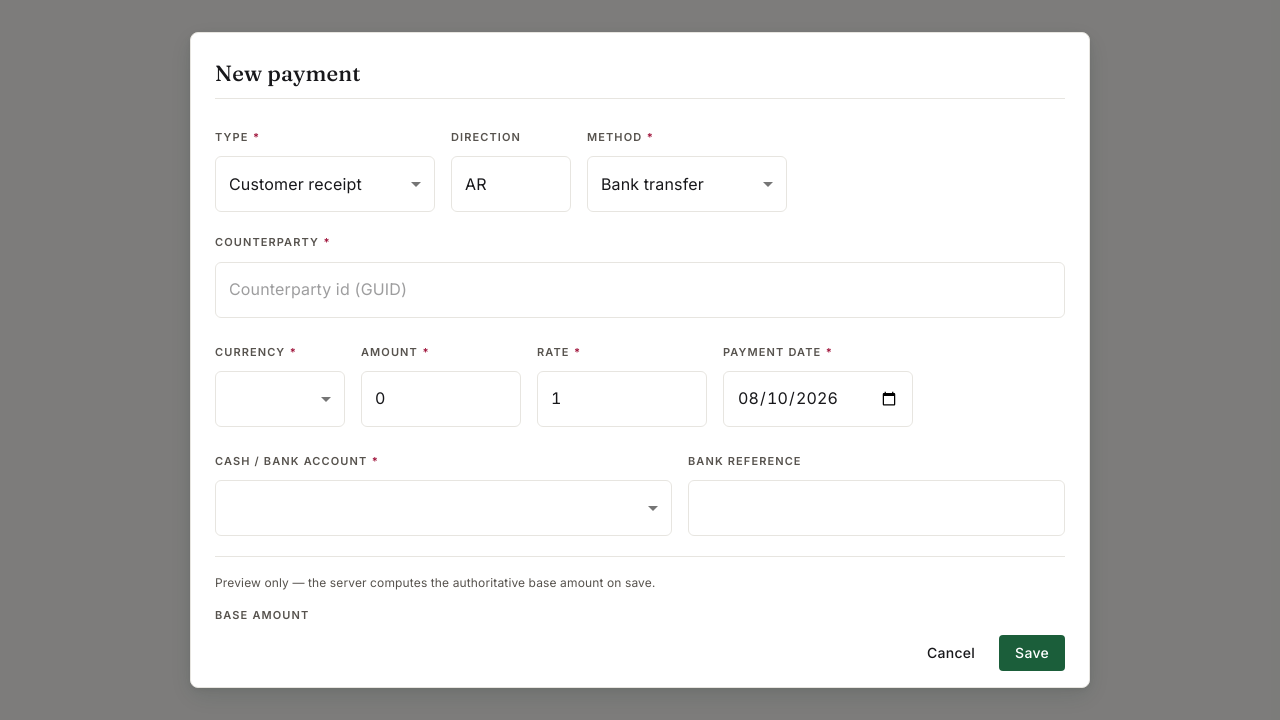
Scenario: PaymentFormDialog (SDD-UI-FIN-002 §2.3, §2.5) › PaymentMutations_Create_InvalidatesListAndShowsSuccess
Step 1. Type "22222222-2222-2222-2222-222222222222" into the field with placeholder "Counterparty id (GUID)" → [640, 290], box [215,262,1065,318]
Step 2. Click the dropdown below "Currency" → [280, 399], box [215,371,345,427]
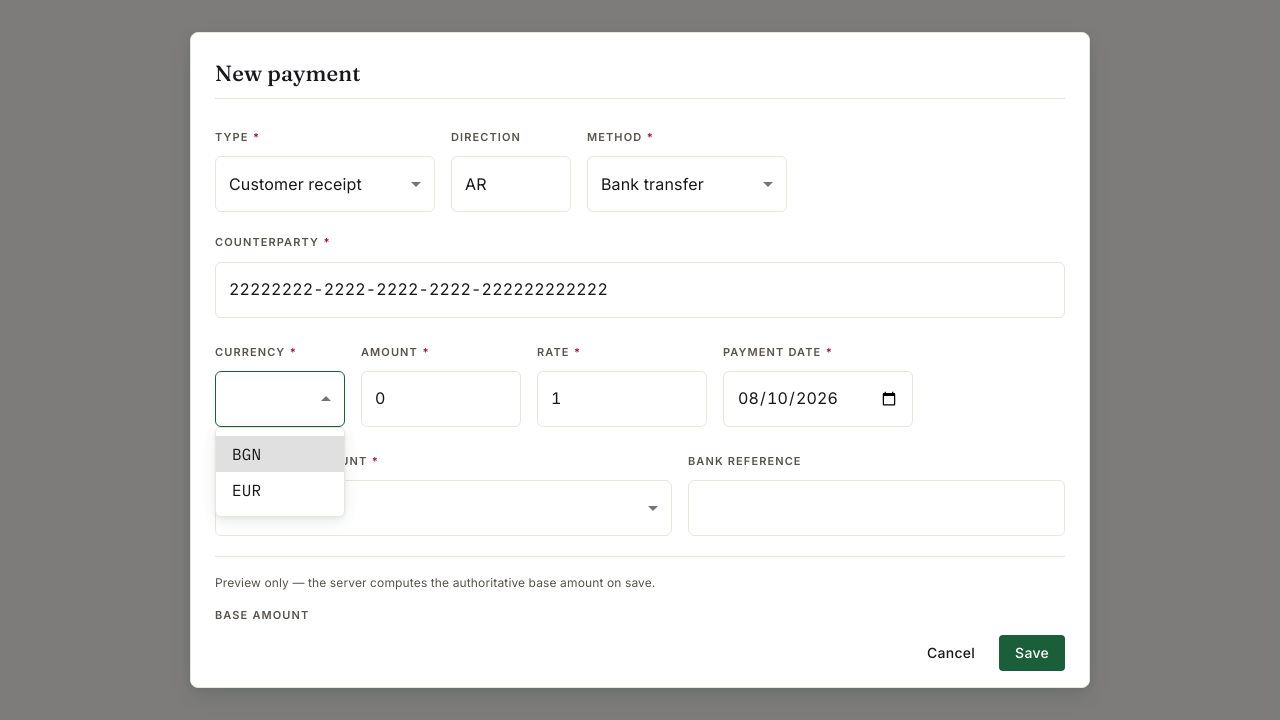
Step 3. Click the option "BGN" → [280, 454], box [216,436,344,472]
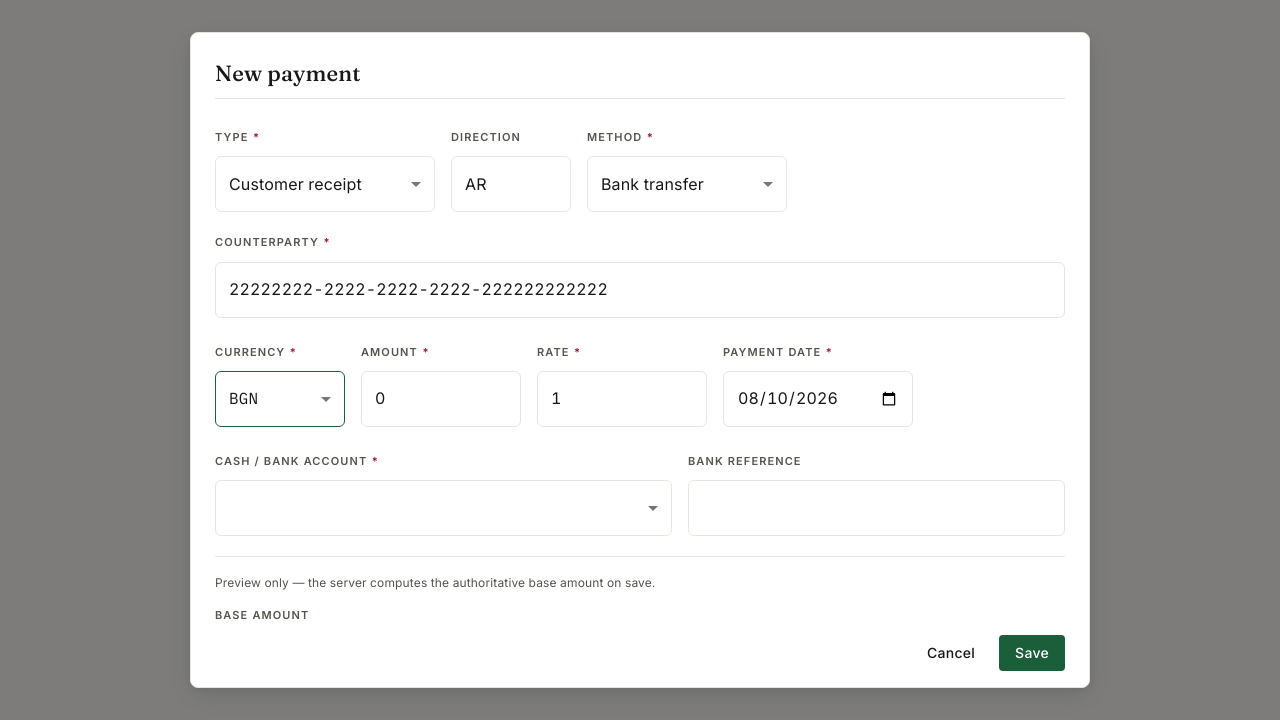
Step 4. Click the 4th dropdown → [444, 508], box [215,480,672,536]
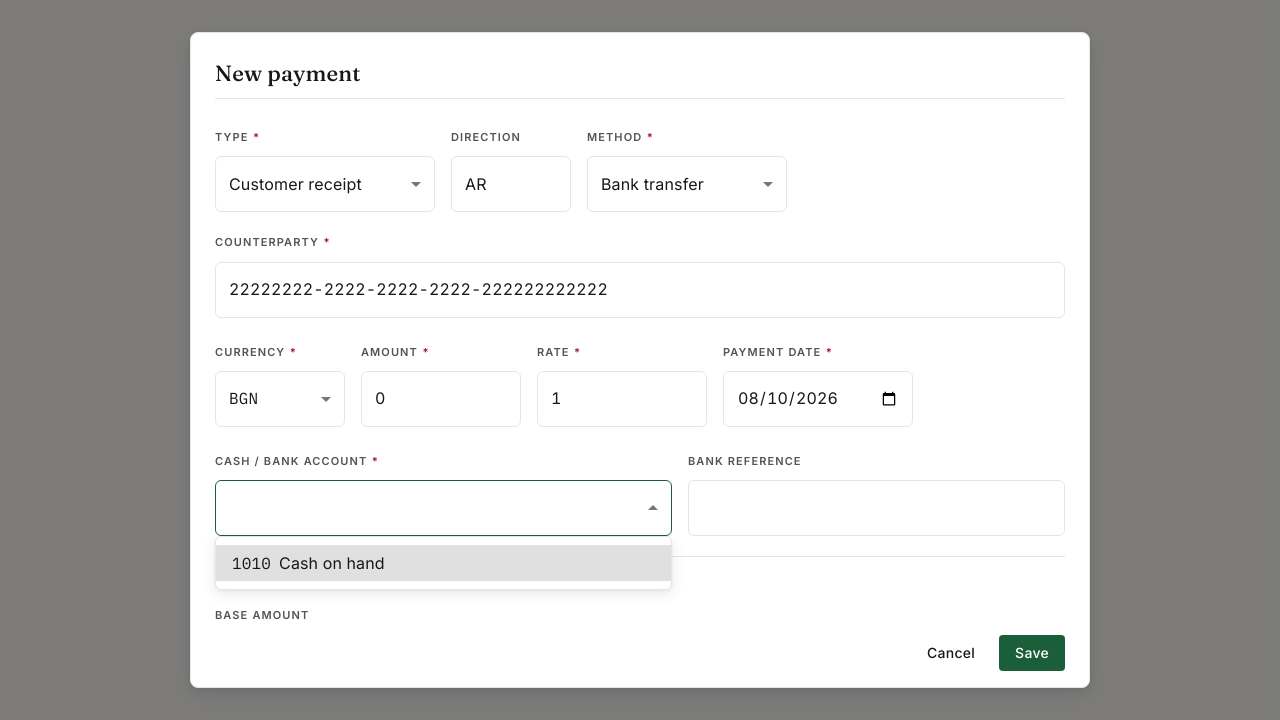
Step 5. Click the option "1010 Cash on hand" → [252, 563], box [216,545,671,581]
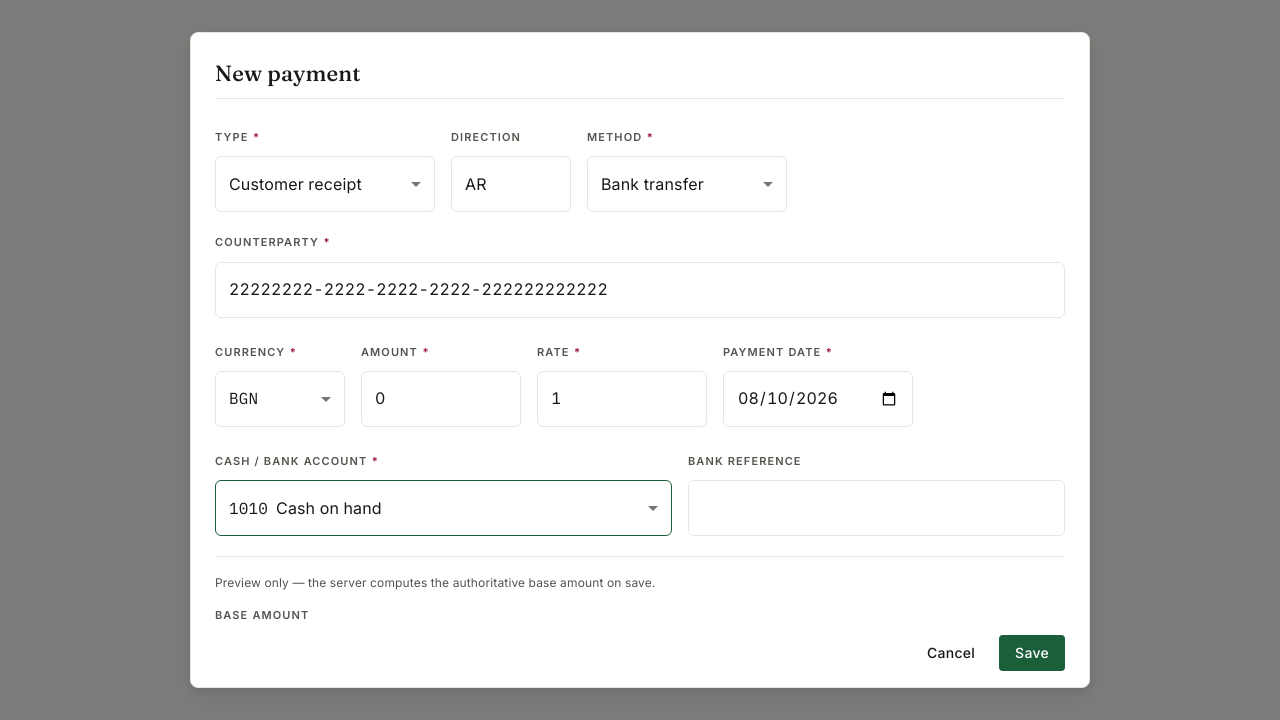
Step 6. Replace the text in the number field labelled "Amount*" with "250.50" → [441, 399], box [361,371,521,427]
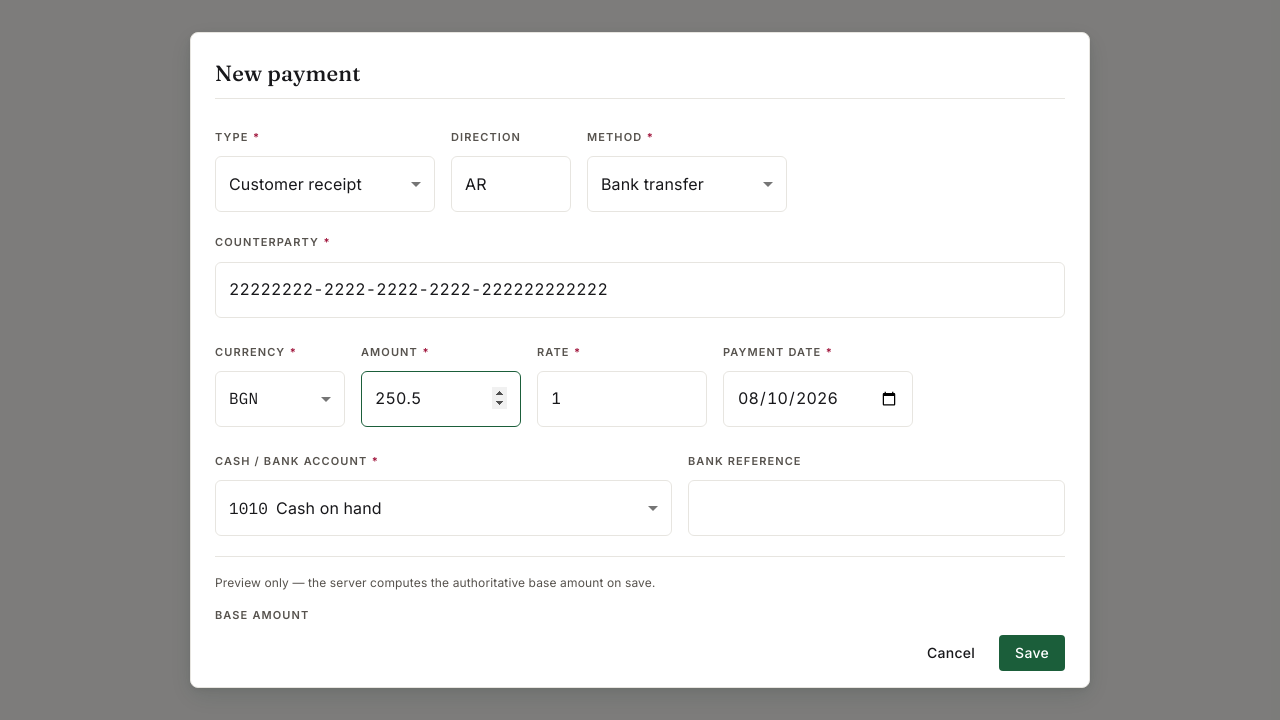
Step 7. Click the button "Save" → [1032, 653], box [999,634,1065,671]
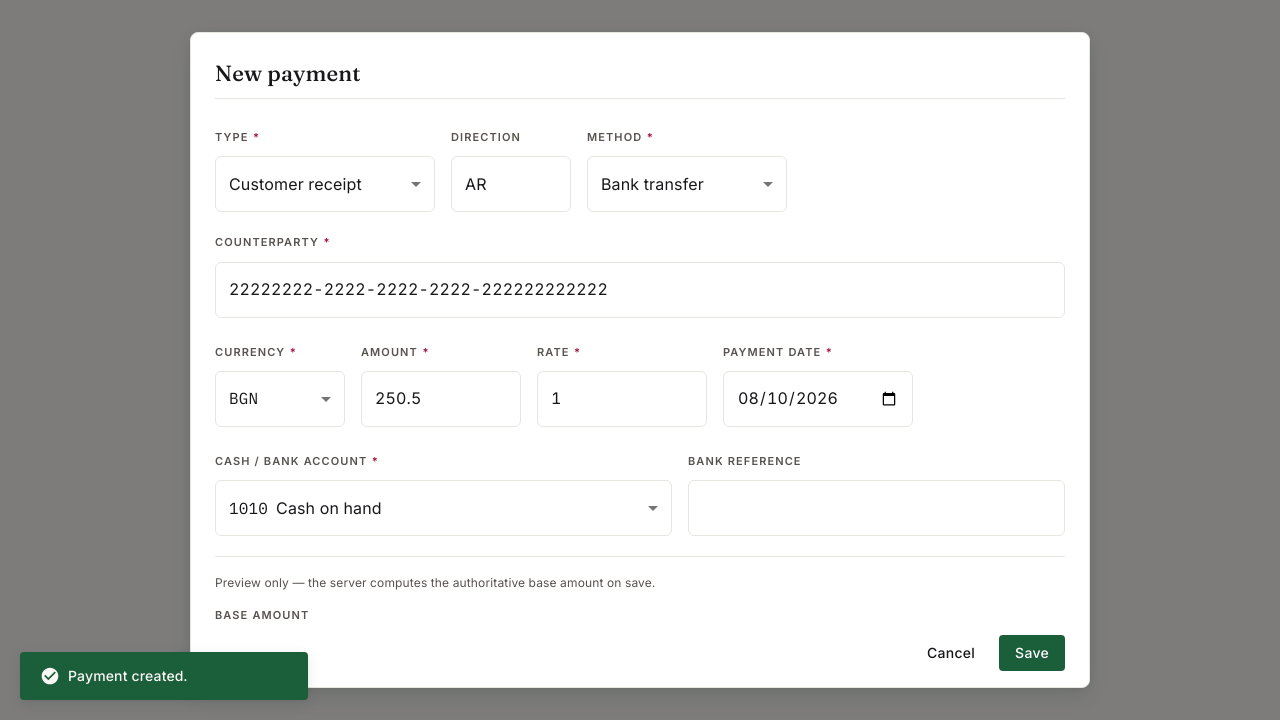
Check: the text "BGN" is shown, box [229,388,258,408]
Check: the text "Payment created." is shown, box [40,666,188,686]
